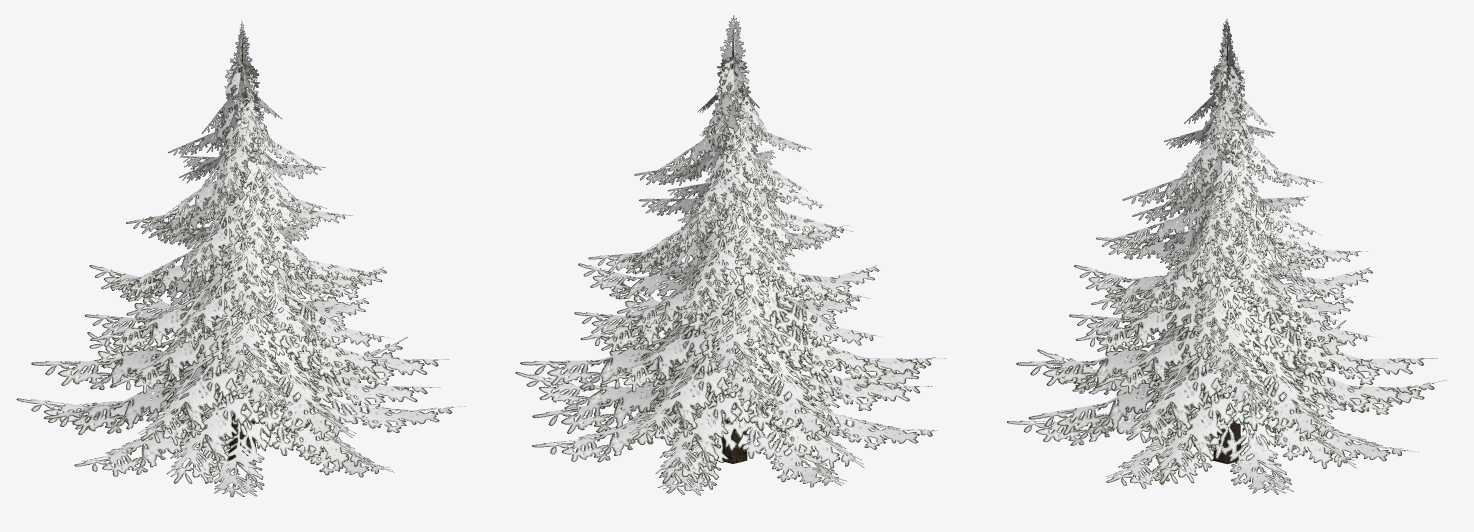
The model's file is snowy-pine.glb.
3 renders of one model, left to right at view 1: azimuth 30°, elevation 25°; view 2: azimuth 150°, elevation 25°; view 3: azimuth 270°, elevation 25°, orthographic.
Bounding box in the file's own units: 95.02 × 98.96 × 95.03.
1 material, 1 textured.
